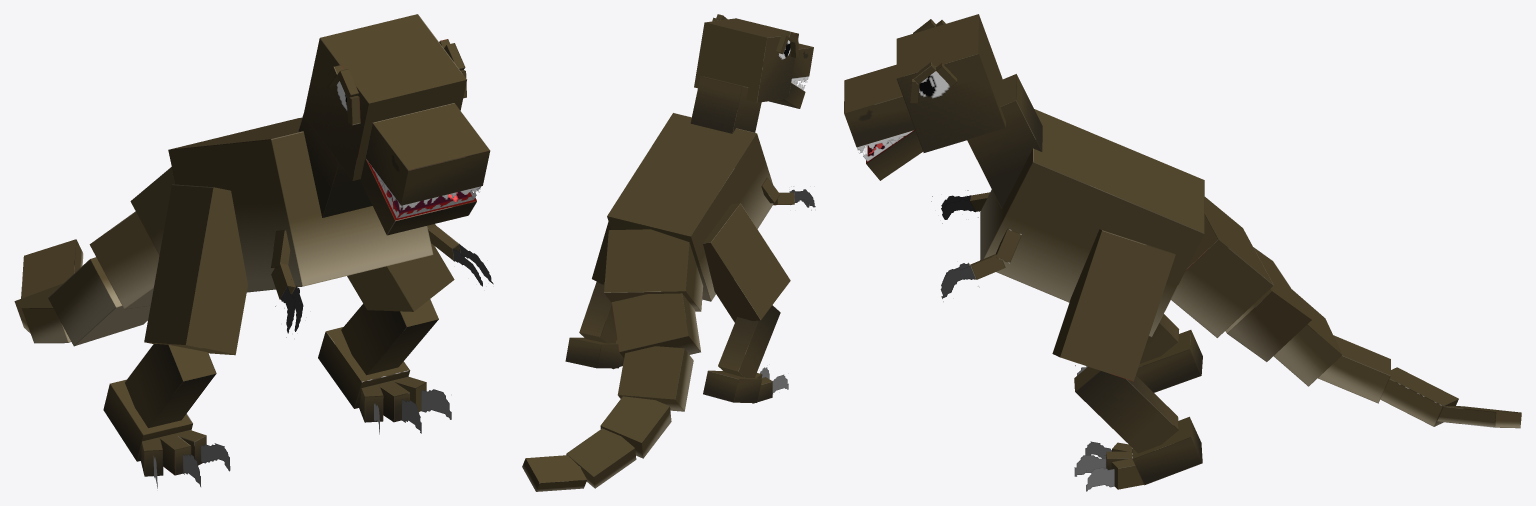
Rendered from animateddinosaur23.obj.
The picture shows the model from 3 angles, left to right: view 1: azimuth 30°, elevation 25°; view 2: azimuth 150°, elevation 25°; view 3: azimuth 270°, elevation 25°; orthographic projection. The views are drawn at different scales.
Parts seen in each view (by area): view 1: Object_6, Object_64, Object_9, Object_56, Object_12, Object_98, Object_34, Object_95, Object_31, Object_53, Object_79, Object_37 (+12 smaller); view 2: Object_6, Object_9, Object_64, Object_92, Object_95, Object_98, Object_53, Object_101, Object_12, Object_104, Object_107, Object_34 (+5 smaller); view 3: Object_6, Object_31, Object_64, Object_92, Object_34, Object_53, Object_95, Object_56, Object_98, Object_101, Object_37, Object_104 (+5 smaller).
Part boxes in pixels (x1,y1,x2,y2): Object_6: [168, 117, 433, 292]; Object_64: [303, 14, 466, 180]; Object_9: [144, 184, 247, 355]; Object_56: [365, 103, 490, 205]; Object_12: [125, 343, 216, 427]; Object_98: [48, 257, 150, 346]; Object_34: [341, 299, 438, 375]; Object_95: [89, 211, 159, 309]; Object_31: [347, 243, 454, 311]; Object_53: [298, 114, 372, 217]; Object_79: [360, 158, 476, 235]; Object_37: [318, 327, 410, 408]; Object_6: [607, 113, 773, 301]; Object_9: [703, 203, 790, 322]; Object_64: [694, 18, 798, 102]; Object_92: [604, 229, 703, 311]; Object_95: [611, 293, 700, 357]; Object_98: [617, 346, 693, 411]; Object_53: [690, 76, 761, 133]; Object_101: [600, 396, 671, 458]; Object_12: [718, 305, 780, 377]; Object_104: [566, 428, 636, 488]; Object_107: [522, 455, 587, 491]; Object_34: [579, 282, 616, 343]; Object_6: [980, 109, 1204, 336]; Object_31: [1052, 229, 1175, 381]; Object_64: [896, 14, 1005, 152]; Object_92: [1171, 197, 1273, 337]; Object_34: [1074, 366, 1178, 453]; Object_53: [967, 74, 1042, 208]; Object_95: [1225, 247, 1311, 361]; Object_56: [844, 64, 914, 147]; Object_98: [1273, 289, 1342, 386]; Object_101: [1318, 335, 1390, 403]; Object_37: [1132, 416, 1202, 485]; Object_104: [1380, 367, 1458, 426].
Size of the model in its own units: 2.25 by 3.6 by 5.38.
